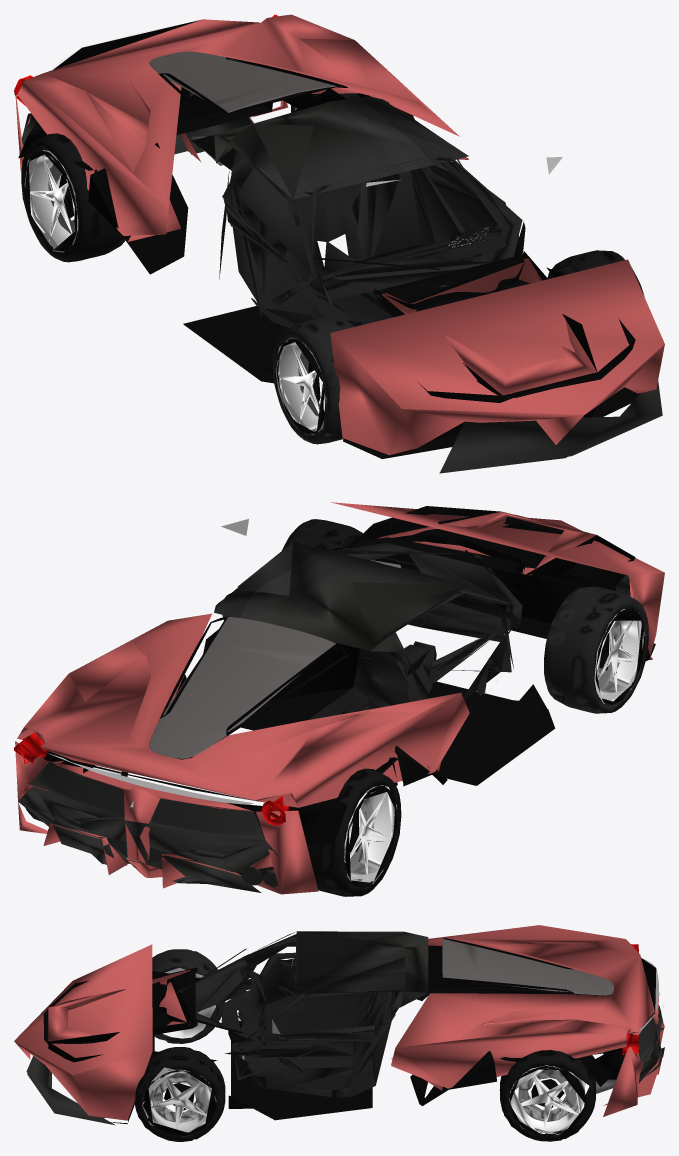
Rendered from ferrari_lo.glb.
The picture shows the model from 3 angles, top to bottom: view 1: azimuth 30°, elevation 25°; view 2: azimuth 150°, elevation 25°; view 3: azimuth 270°, elevation 25°; orthographic projection. The views are drawn at different scales.
Parts seen in each view (by area): view 1: body, wheel_RR, wheel_FR, wheel_FL; view 2: body, wheel_FR, wheel_RR, wheel_FL; view 3: body, wheel_RL, wheel_FL, wheel_FR.
Part boxes in pixels (x1,y1,x2,y2): body: (14,14,664,473); wheel_RR: (21,133,125,262); wheel_FR: (273,316,353,444); wheel_FL: (547,250,644,296); body: (14,502,664,894); wheel_FR: (544,586,648,713); wheel_RR: (307,768,401,896); wheel_FL: (282,519,362,550); body: (14,925,664,1125); wheel_RL: (499,1050,595,1141); wheel_FL: (134,1047,225,1141); wheel_FR: (152,949,225,1043).
Size of what is drawn, in the model's own units: 2.03 by 1.11 by 4.69.
19 materials, 9 textured.
